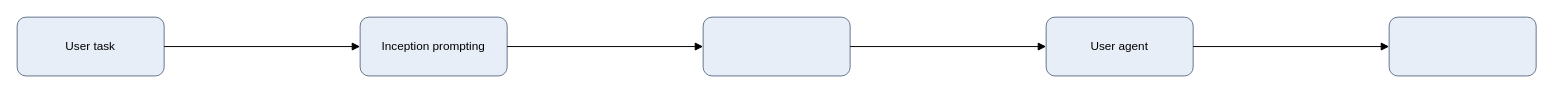
The diagram is 1553 pixels wide and 93 high, and some of its shapes have lost their labels. Each missing label, with the centre of its shape:
Assistant agent: [776,46]
Collaborative solution: [1462,46]
